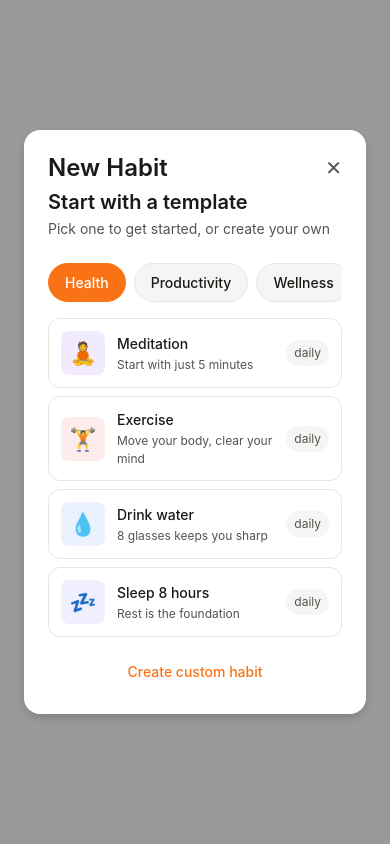
CreateHabitScreen › defaults visibility from Social Service user preferences
Click the button with test id "template-skip" at {"x": 195, "y": 672}, box [48,637,342,706]
(page scrolled)
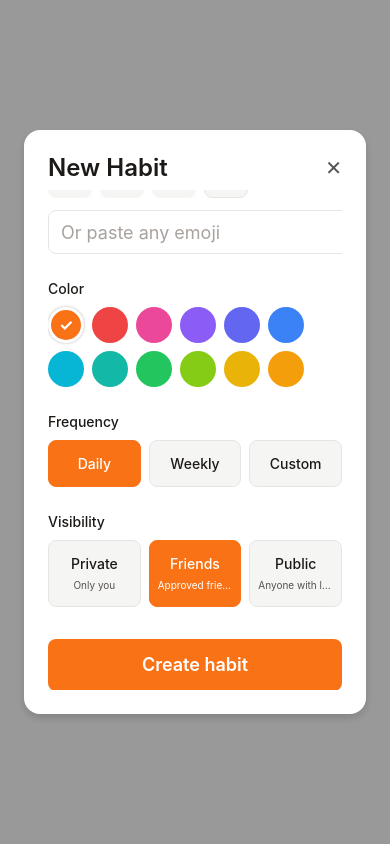
expect the radio button with test id "visibility-friends" is selected: met, box [149,540,241,607]
